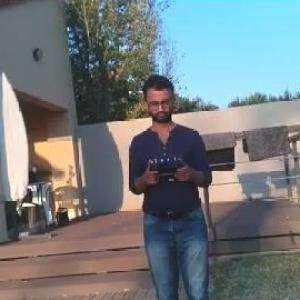follow: (116, 73, 216, 299)
